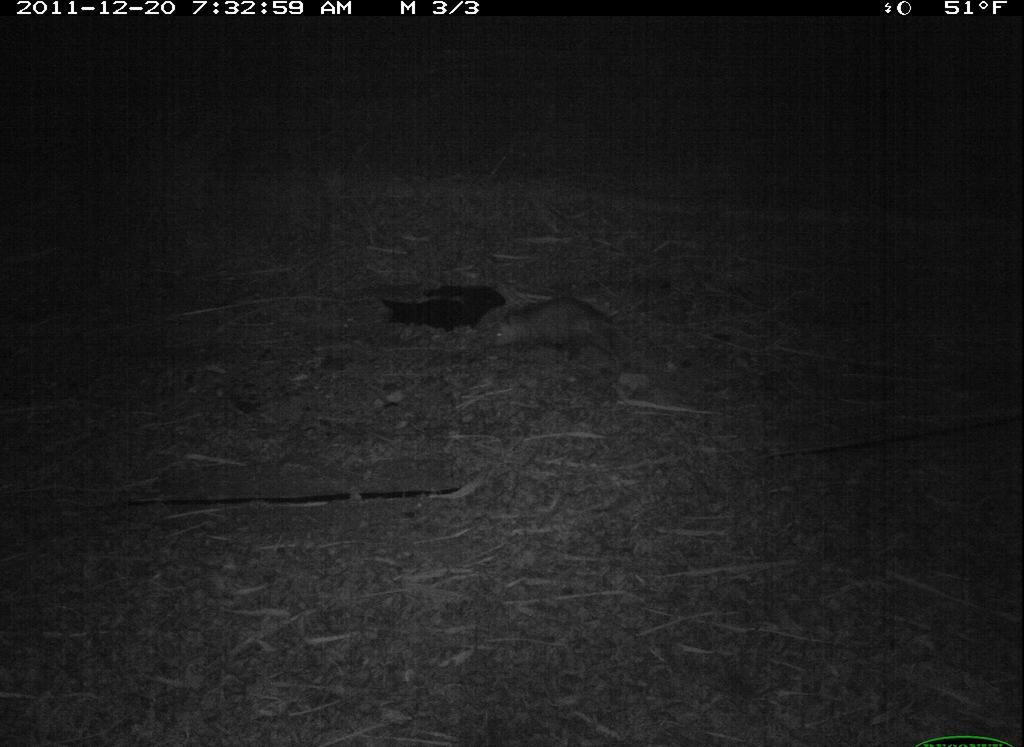opossum: (487, 292, 646, 376)
